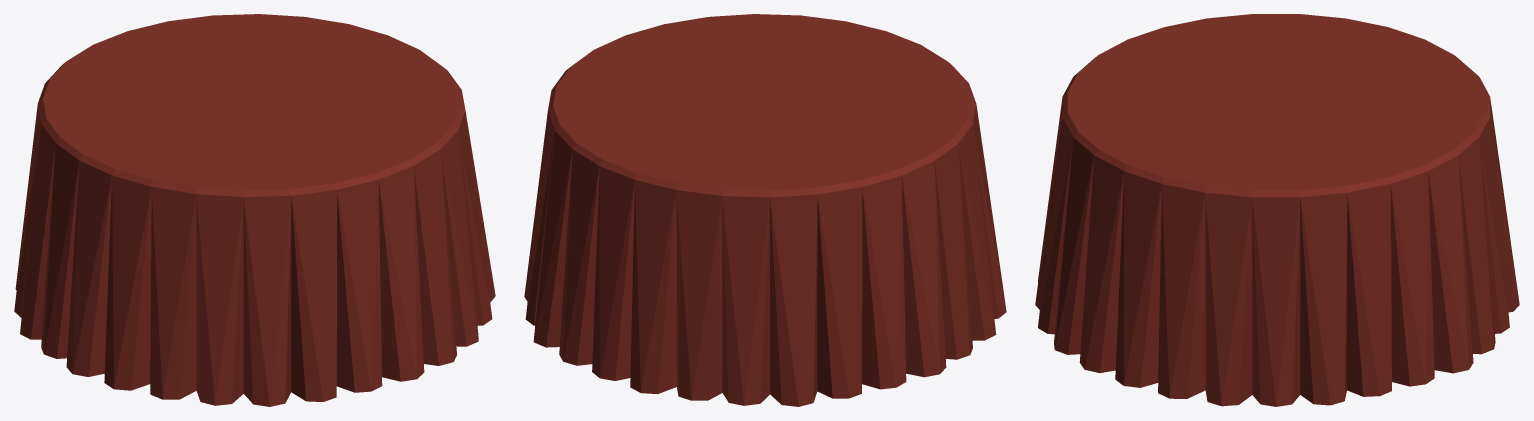
The model's file is draped-banquet-table-0f0b81.glb.
The picture shows the model from 3 angles, left to right: view 1: azimuth 30°, elevation 25°; view 2: azimuth 150°, elevation 25°; view 3: azimuth 270°, elevation 25°; orthographic projection.
Visible parts, largest first — view 1: draped-banquet-table-body; view 2: draped-banquet-table-body; view 3: draped-banquet-table-body.
Part boxes in pixels (left/top/right/bottom): draped-banquet-table-body: left=14, top=14, right=495, bottom=406; draped-banquet-table-body: left=524, top=14, right=1006, bottom=406; draped-banquet-table-body: left=1035, top=14, right=1519, bottom=406.
Size of the model in its own units: 1.68 by 0.78 by 1.69.
